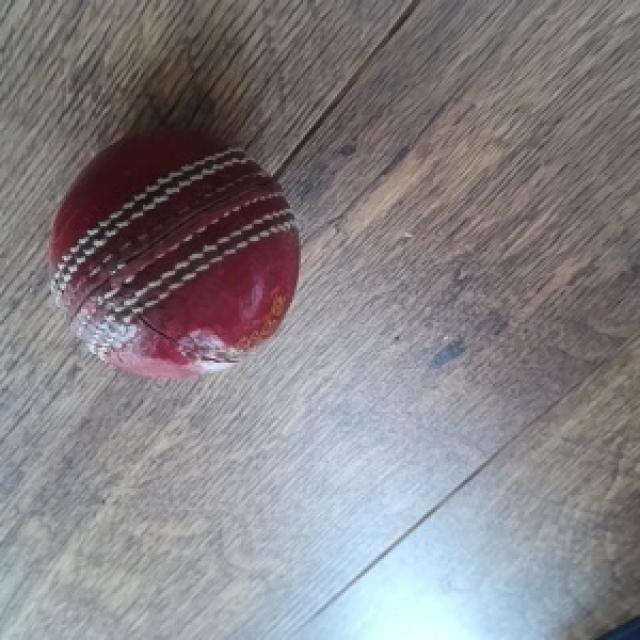ball: (51, 128, 301, 384)
